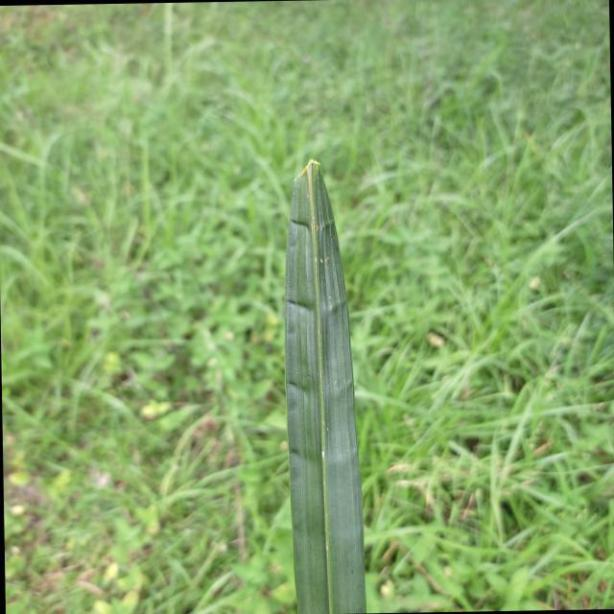Boron: (276, 151, 365, 614)
